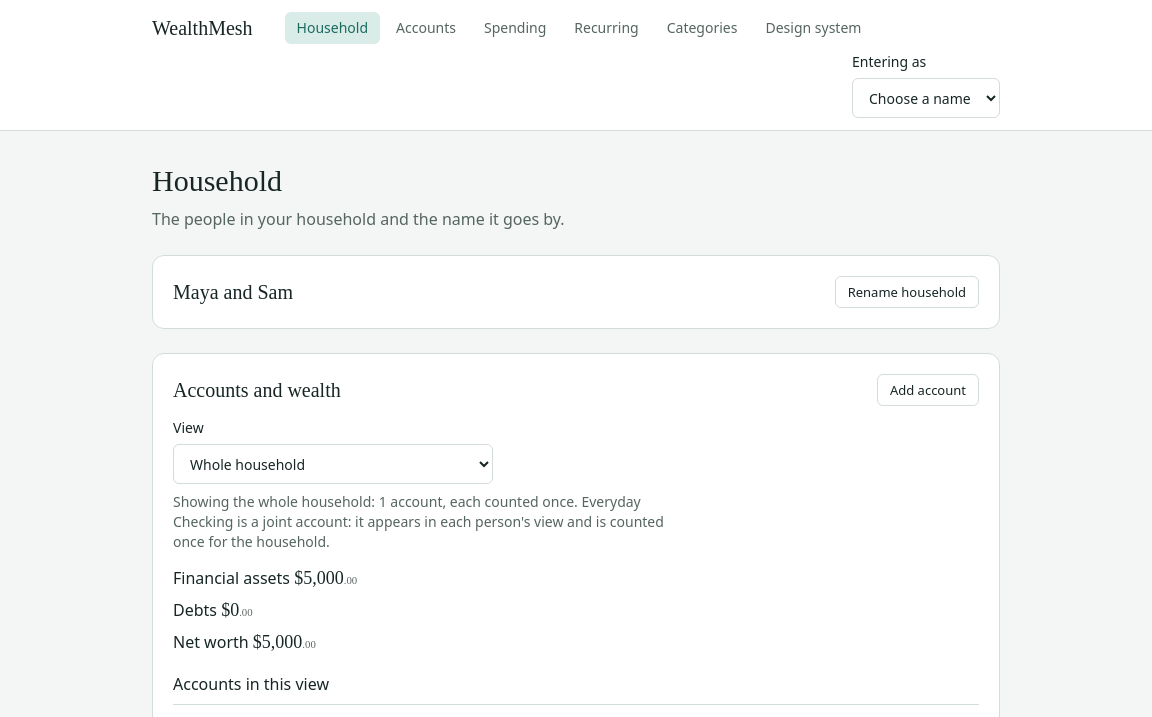
joint owners › V2_HOUSEHOLD_SETUP_001 counts the shared account once in wealth and keeps its owners after renaming the household
Expected: the text "Financial assets $5,000.00" is shown, [173,567,357,589]
Click the button "Rename household" at (907, 292), box [835,276,979,308]
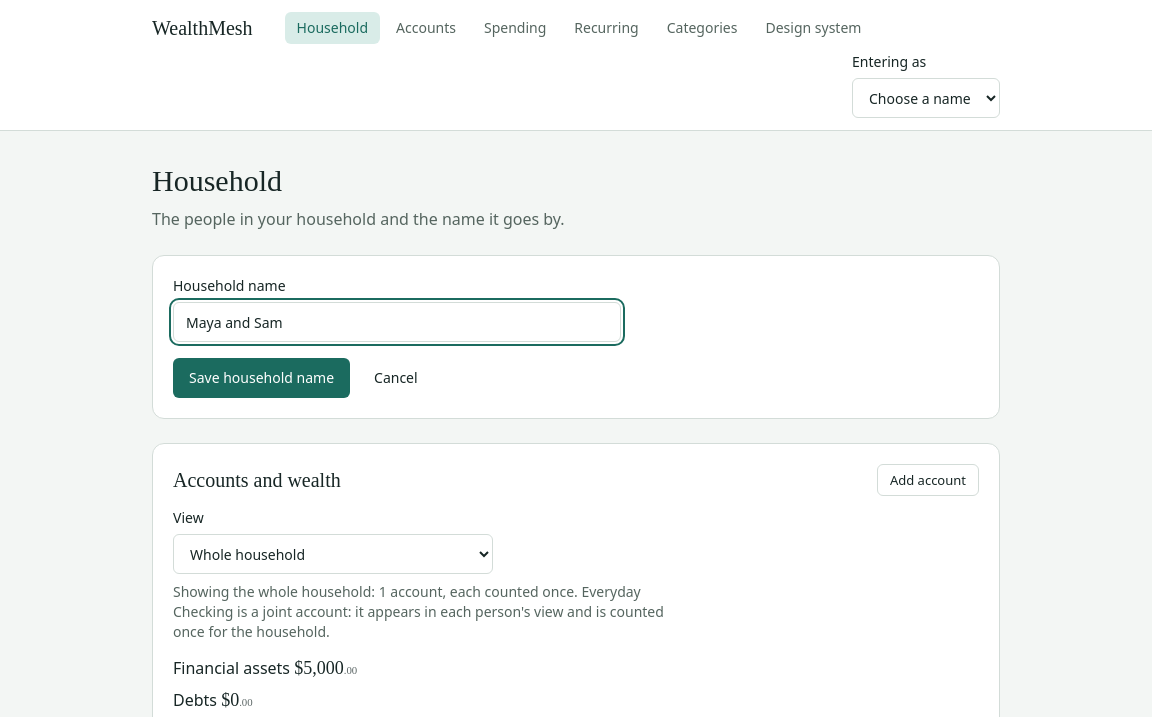
Replace the text in the field labelled "Household name" with "Our Household" at (397, 322), box [173,302,621,342]
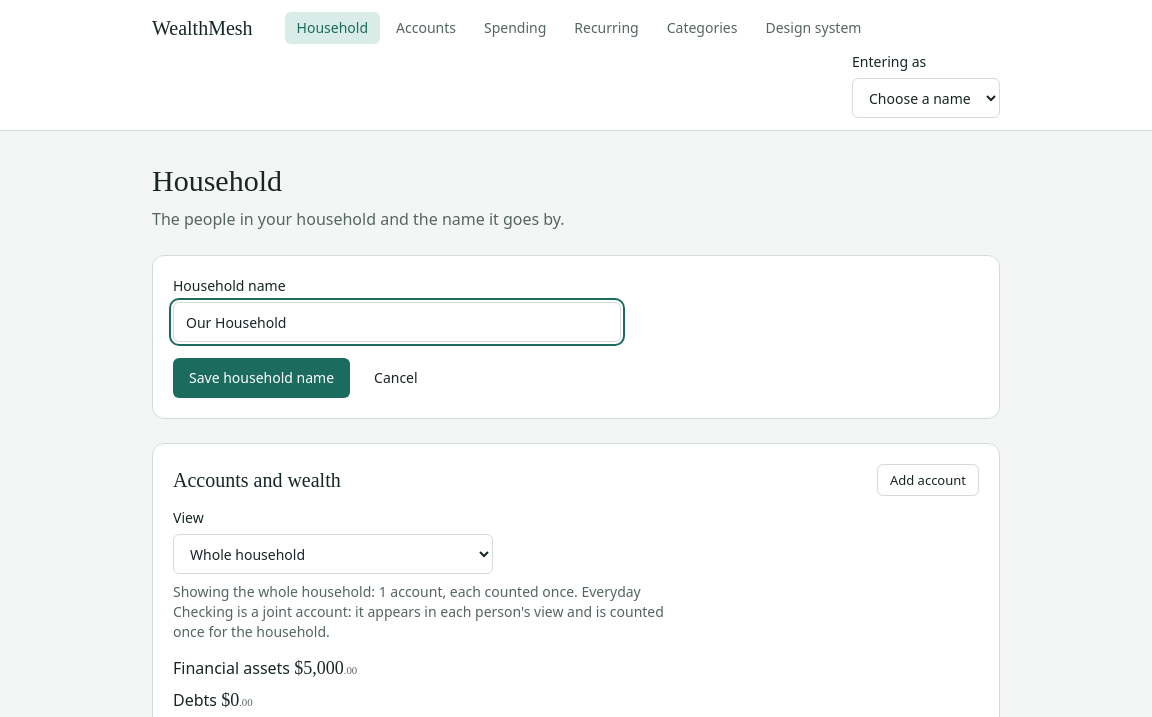
Click the button "Save household name" at (262, 378), box [173,358,350,398]
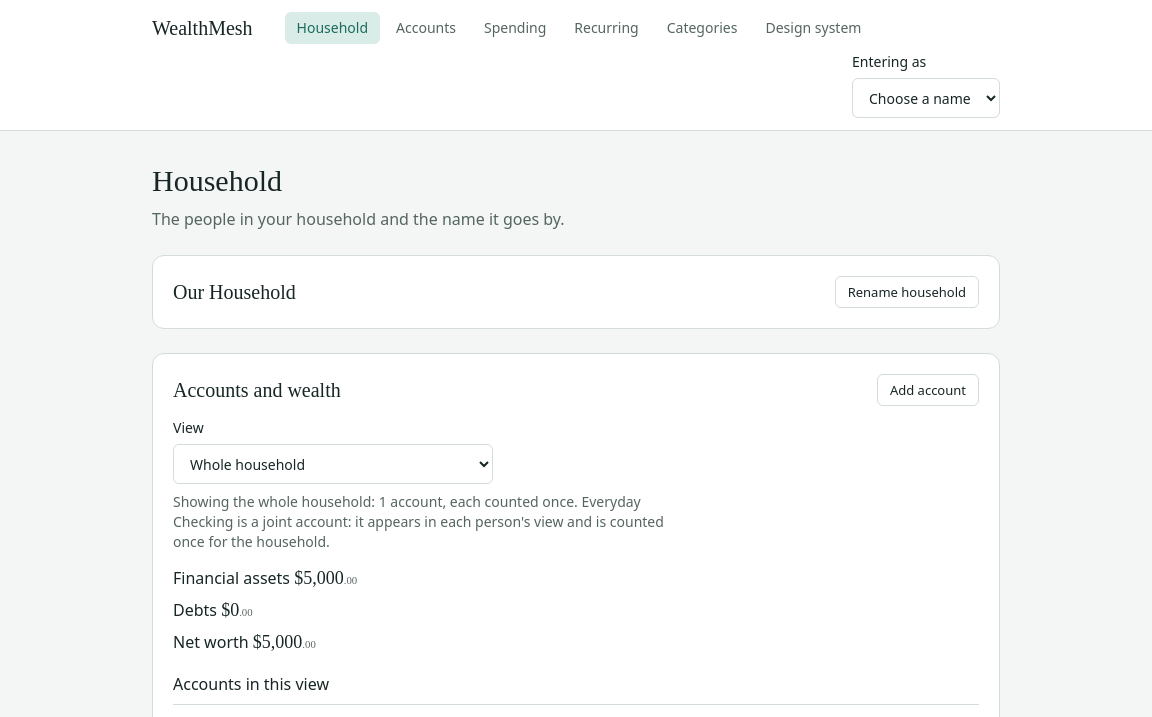
Expected: the text "Financial assets $5,000.00" is shown, [173,567,357,589]
Result: the heading "Our Household" is shown at [173,278,296,306]
